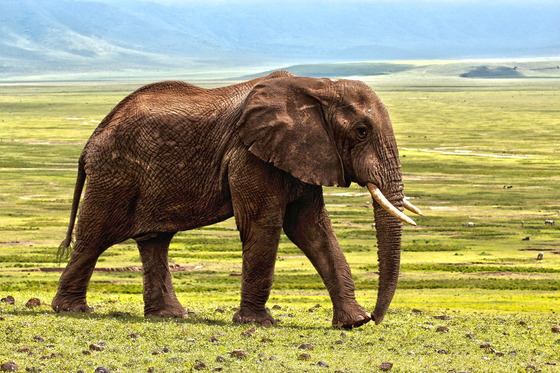Elephant: (34, 59, 424, 341)
